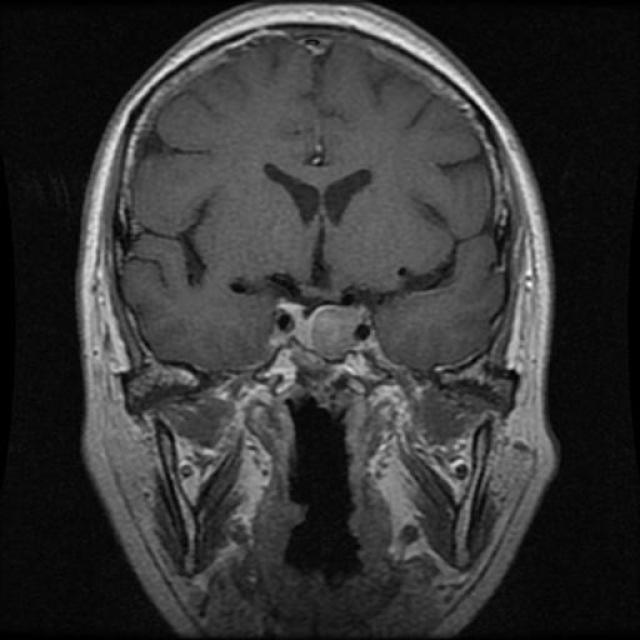pituitary: (266, 286, 389, 380)
